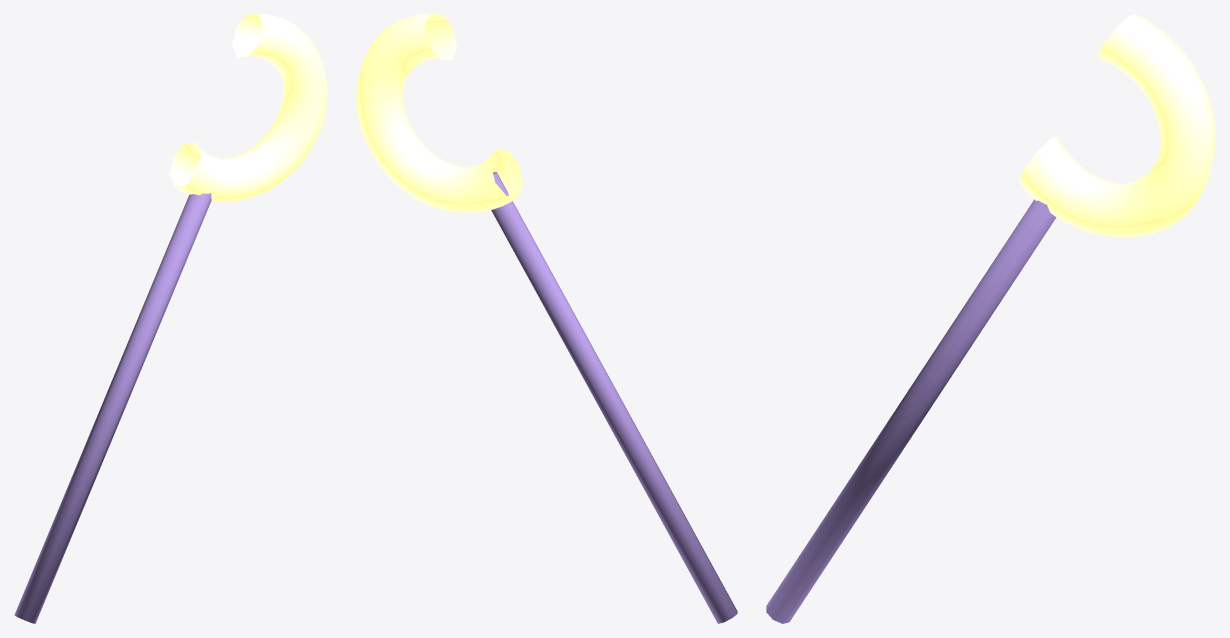
Rendered from wand_moon.glb.
3 views of the same model, side by side, from view 1: azimuth 30°, elevation 25°; view 2: azimuth 150°, elevation 25°; view 3: azimuth 330°, elevation 25° (orthographic). The views are drawn at different scales.
Parts seen in each view (by area): view 1: wand_moon; view 2: wand_moon; view 3: wand_moon.
Boxes of the visible parts, x1,y1,x2,y2 form: wand_moon: (14, 14, 327, 623); wand_moon: (356, 14, 737, 623); wand_moon: (766, 14, 1215, 623).
Size of the model in its own units: 0.2697 by 0.4104 by 0.0577.
